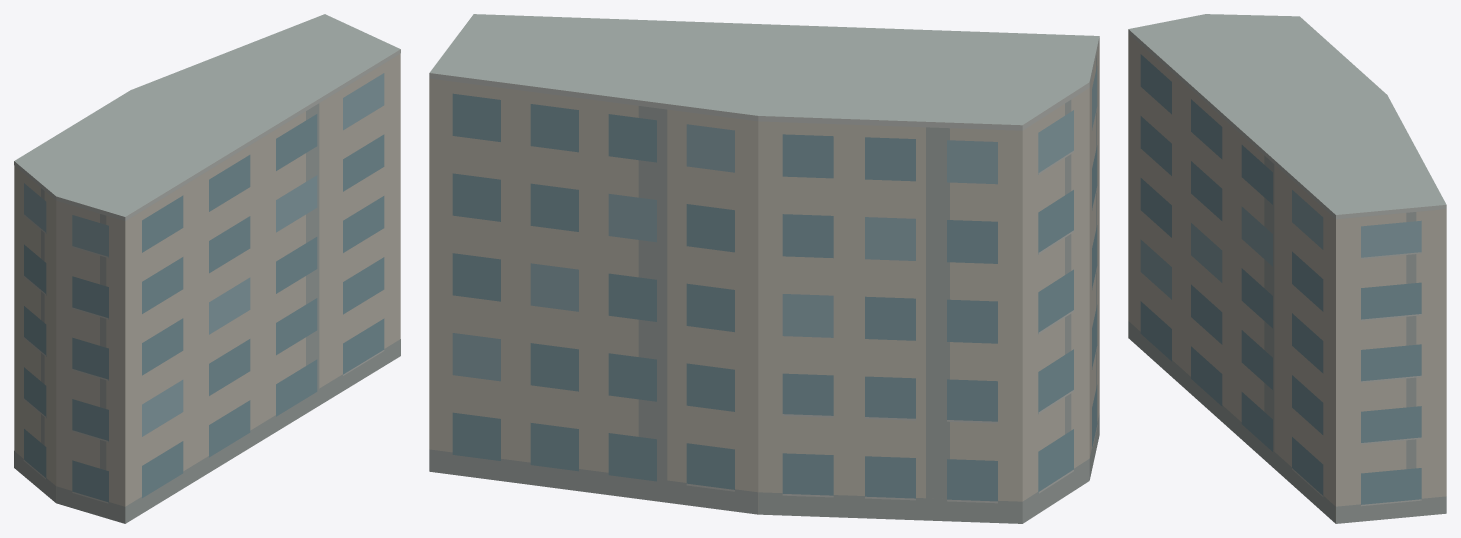
File: survey-upis-32461127.glb
3 views of the same model, side by side, from view 1: azimuth 30°, elevation 25°; view 2: azimuth 150°, elevation 25°; view 3: azimuth 270°, elevation 25° (orthographic). The views are drawn at different scales.
Parts seen in each view (by area): view 1: survey-upis-32461127.tmp; view 2: survey-upis-32461127.tmp; view 3: survey-upis-32461127.tmp.
Part boxes in pixels (box(x1,y1,x2,y2)): survey-upis-32461127.tmp: box(14, 14, 400, 523); survey-upis-32461127.tmp: box(429, 14, 1099, 523); survey-upis-32461127.tmp: box(1128, 14, 1446, 523).
Bounding box in the file's own units: 24.44 × 17.5 × 16.35.
